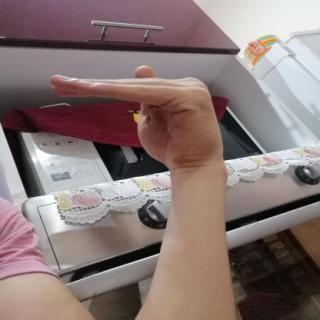KHAA: (35, 56, 242, 178)
